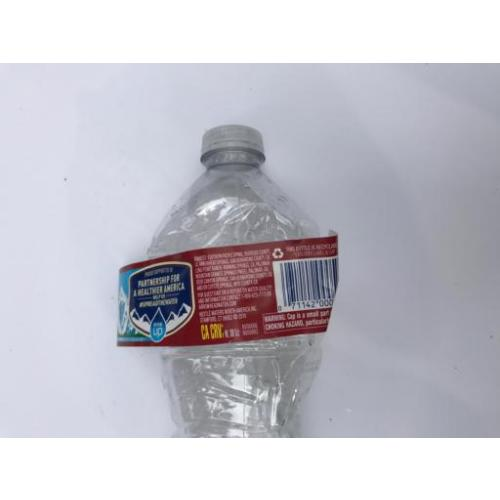plastic: (119, 122, 341, 439)
